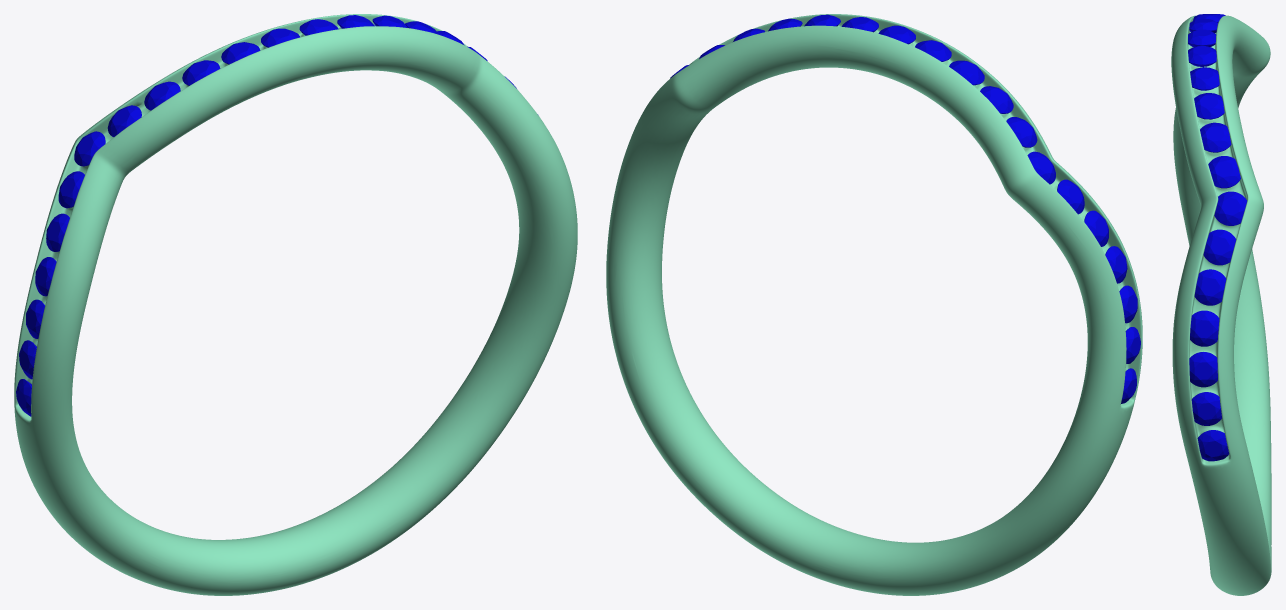
The picture shows the model from 3 angles, left to right: view 1: azimuth 30°, elevation 25°; view 2: azimuth 150°, elevation 25°; view 3: azimuth 270°, elevation 25°; orthographic projection. The views are drawn at different scales.
Visible parts, largest first — view 1: Metal03; view 2: Metal03; view 3: Metal03, Diamond_Band.018, Diamond_Band.019, Diamond_Band.017, Diamond_Band.020, Diamond_Band.012, Diamond_Band.021, Diamond_Band.013, Diamond_Band.022, Diamond_Band.014, Diamond_Band.015, Diamond_Band.016 (+4 smaller).
Part boxes in pixels (bbox=[...]): Metal03: bbox=[14, 14, 577, 595]; Metal03: bbox=[606, 14, 1142, 595]; Metal03: bbox=[1171, 15, 1271, 595]; Diamond_Band.018: bbox=[1194, 269, 1226, 305]; Diamond_Band.019: bbox=[1190, 310, 1219, 346]; Diamond_Band.017: bbox=[1203, 229, 1236, 265]; Diamond_Band.020: bbox=[1189, 352, 1217, 387]; Diamond_Band.012: bbox=[1214, 191, 1246, 225]; Diamond_Band.021: bbox=[1191, 392, 1221, 425]; Diamond_Band.013: bbox=[1208, 156, 1240, 188]; Diamond_Band.022: bbox=[1197, 430, 1229, 461]; Diamond_Band.014: bbox=[1200, 122, 1231, 152]; Diamond_Band.015: bbox=[1194, 93, 1224, 119]; Diamond_Band.016: bbox=[1190, 67, 1219, 90].
Size of the model in its own units: 20.77 by 20.82 by 3.59.
